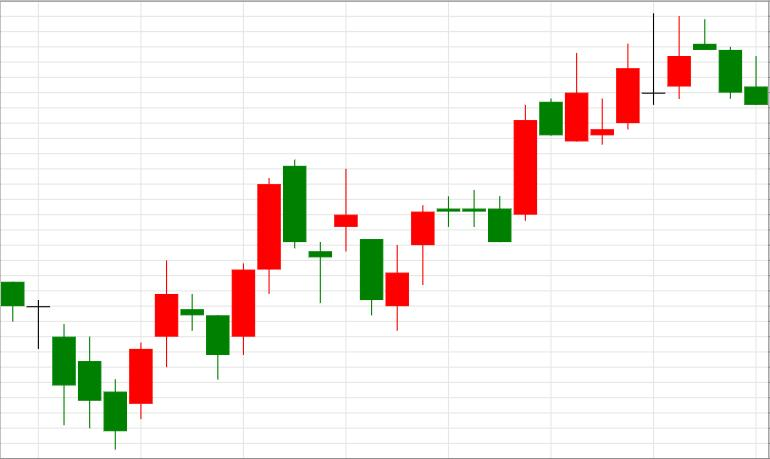shooting_star_fall: (564, 12, 691, 146)
